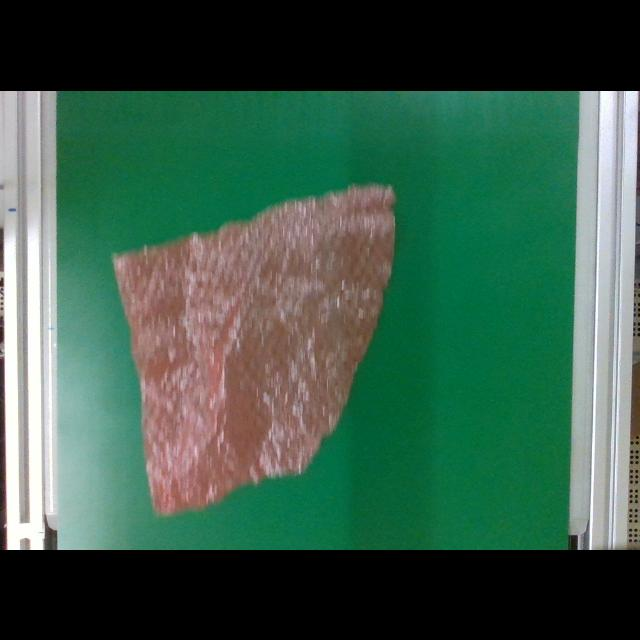scrap_plastic: (106, 182, 397, 522)
